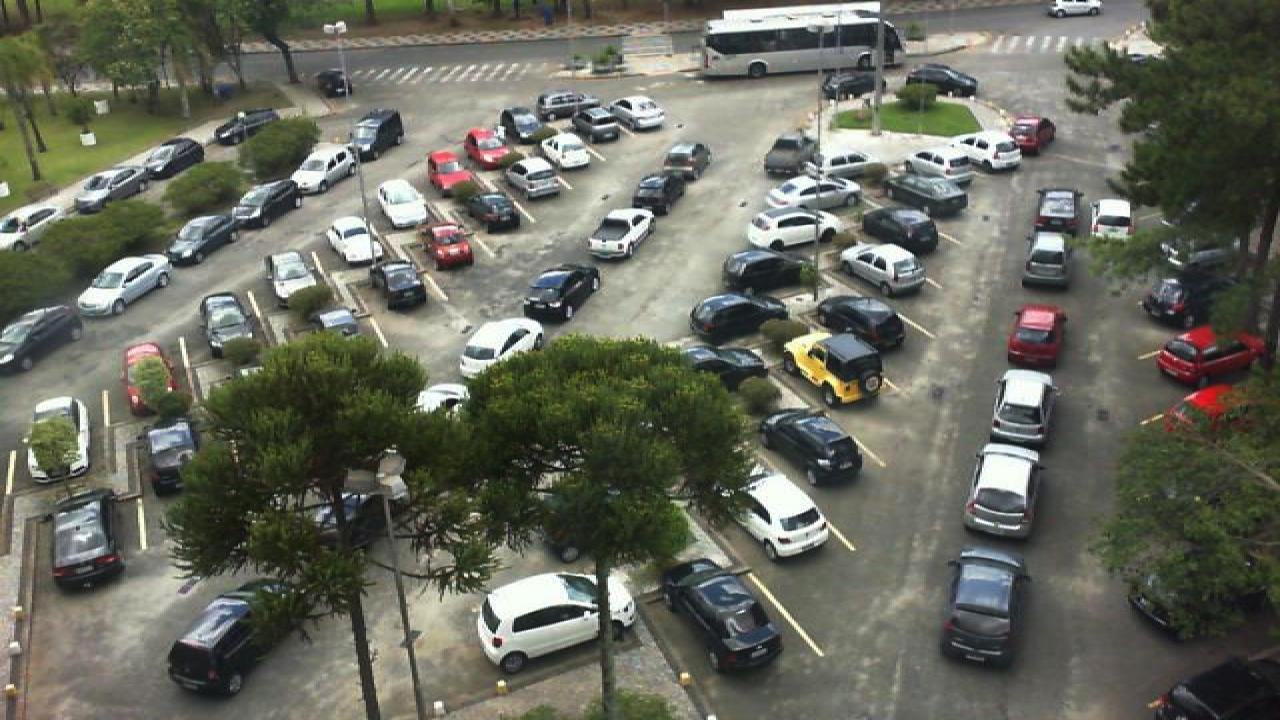Car: (470, 568, 640, 675), (658, 556, 782, 676), (162, 592, 270, 700), (938, 548, 1032, 668), (36, 486, 130, 591), (734, 468, 832, 561), (758, 407, 868, 487), (962, 441, 1044, 540), (784, 328, 888, 404), (1154, 325, 1268, 388), (20, 394, 92, 485), (74, 252, 172, 318), (0, 304, 84, 376), (456, 316, 546, 379), (1142, 266, 1228, 328), (520, 262, 604, 324), (986, 367, 1054, 443), (814, 294, 908, 347), (836, 243, 930, 296), (676, 343, 770, 395), (742, 206, 842, 254), (118, 340, 182, 415), (224, 177, 304, 235), (142, 420, 202, 495), (1002, 303, 1070, 369), (162, 213, 240, 269), (284, 140, 362, 196), (762, 173, 868, 214), (690, 294, 788, 338), (880, 172, 974, 217), (198, 290, 260, 358), (584, 206, 660, 261), (718, 248, 808, 294), (858, 207, 942, 255), (0, 205, 80, 254), (262, 248, 326, 308), (368, 256, 430, 312), (68, 168, 146, 212), (128, 136, 206, 180), (322, 215, 384, 270), (344, 107, 406, 161), (1018, 231, 1074, 287), (374, 178, 434, 229), (212, 106, 288, 146), (498, 155, 566, 199), (460, 192, 524, 234), (904, 63, 982, 97), (422, 220, 474, 270), (1032, 186, 1086, 234), (820, 151, 900, 183), (906, 144, 978, 179), (964, 130, 1024, 172), (628, 171, 682, 216), (820, 64, 886, 100), (424, 148, 478, 192), (460, 127, 512, 171), (566, 105, 626, 143), (500, 112, 560, 150), (764, 135, 818, 177), (538, 132, 594, 171), (608, 96, 670, 130), (1006, 115, 1056, 154), (1092, 197, 1136, 241), (660, 142, 712, 179), (538, 89, 604, 118), (314, 68, 350, 98)
